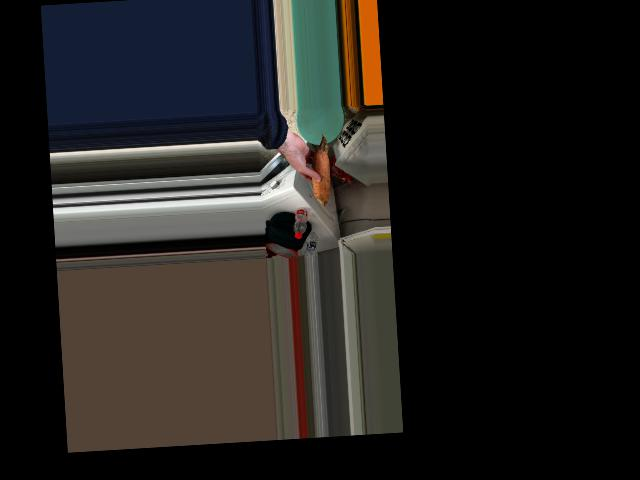sweet_potato: (305, 133, 332, 201)
